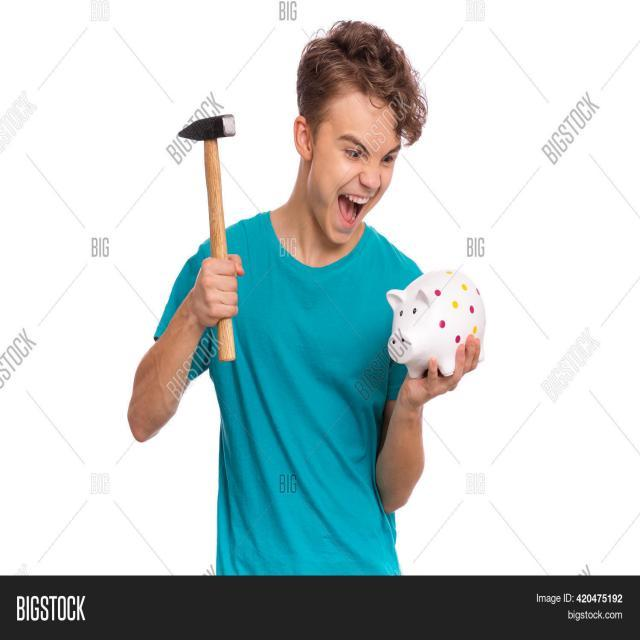hammer: (172, 100, 242, 372)
